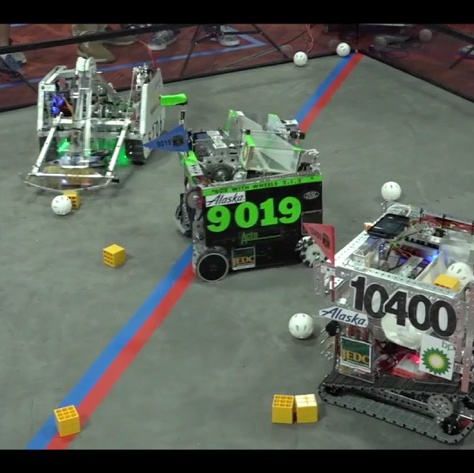robot: (316, 195, 473, 447), (139, 104, 331, 284), (23, 51, 173, 196)
